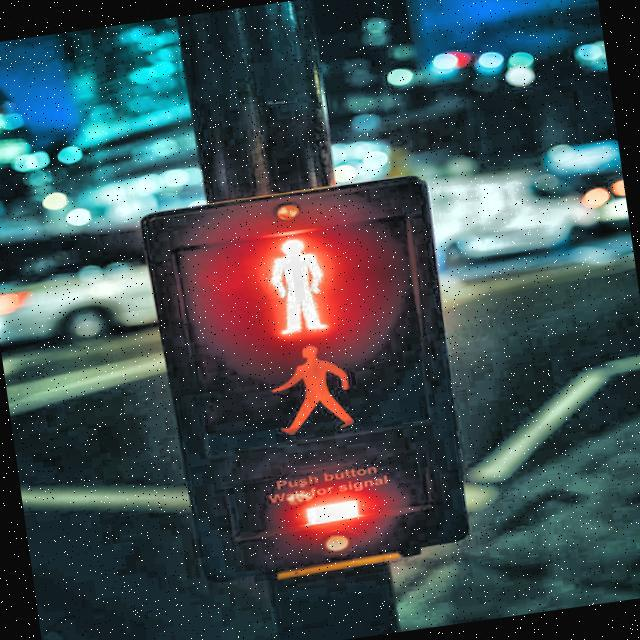red_light: (258, 232, 334, 342)
